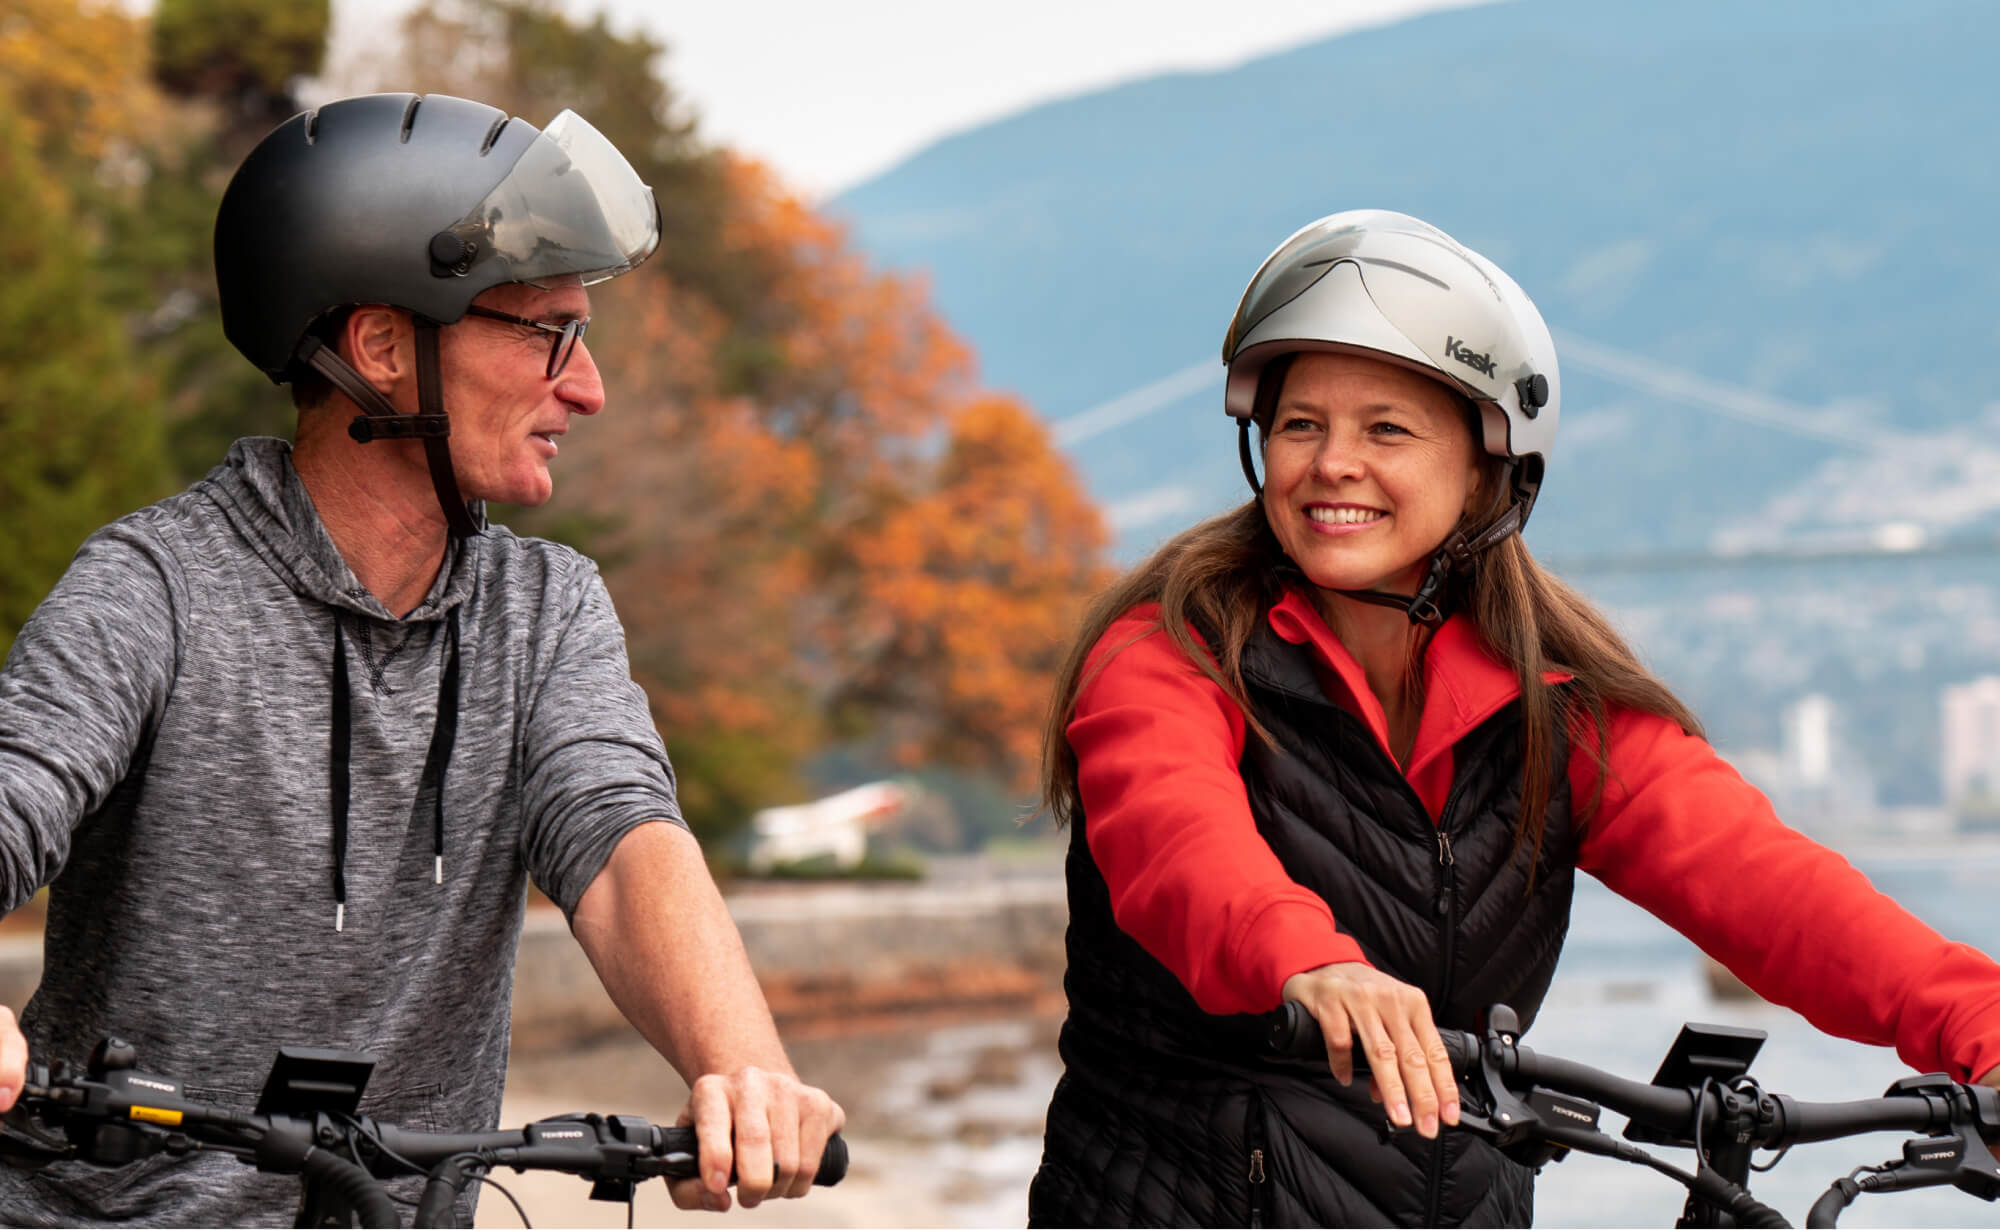helmet: (214, 93, 663, 507), (1221, 207, 1561, 589)
